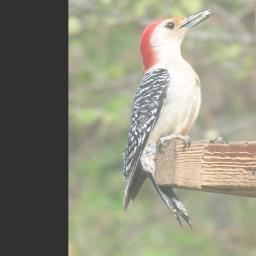Woodpecker: (123, 7, 217, 231)
